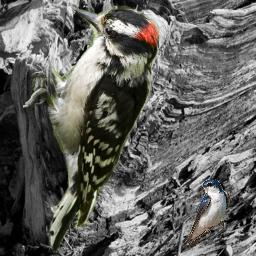Swallow: (182, 178, 230, 247)
Woodpecker: (23, 2, 159, 253)
